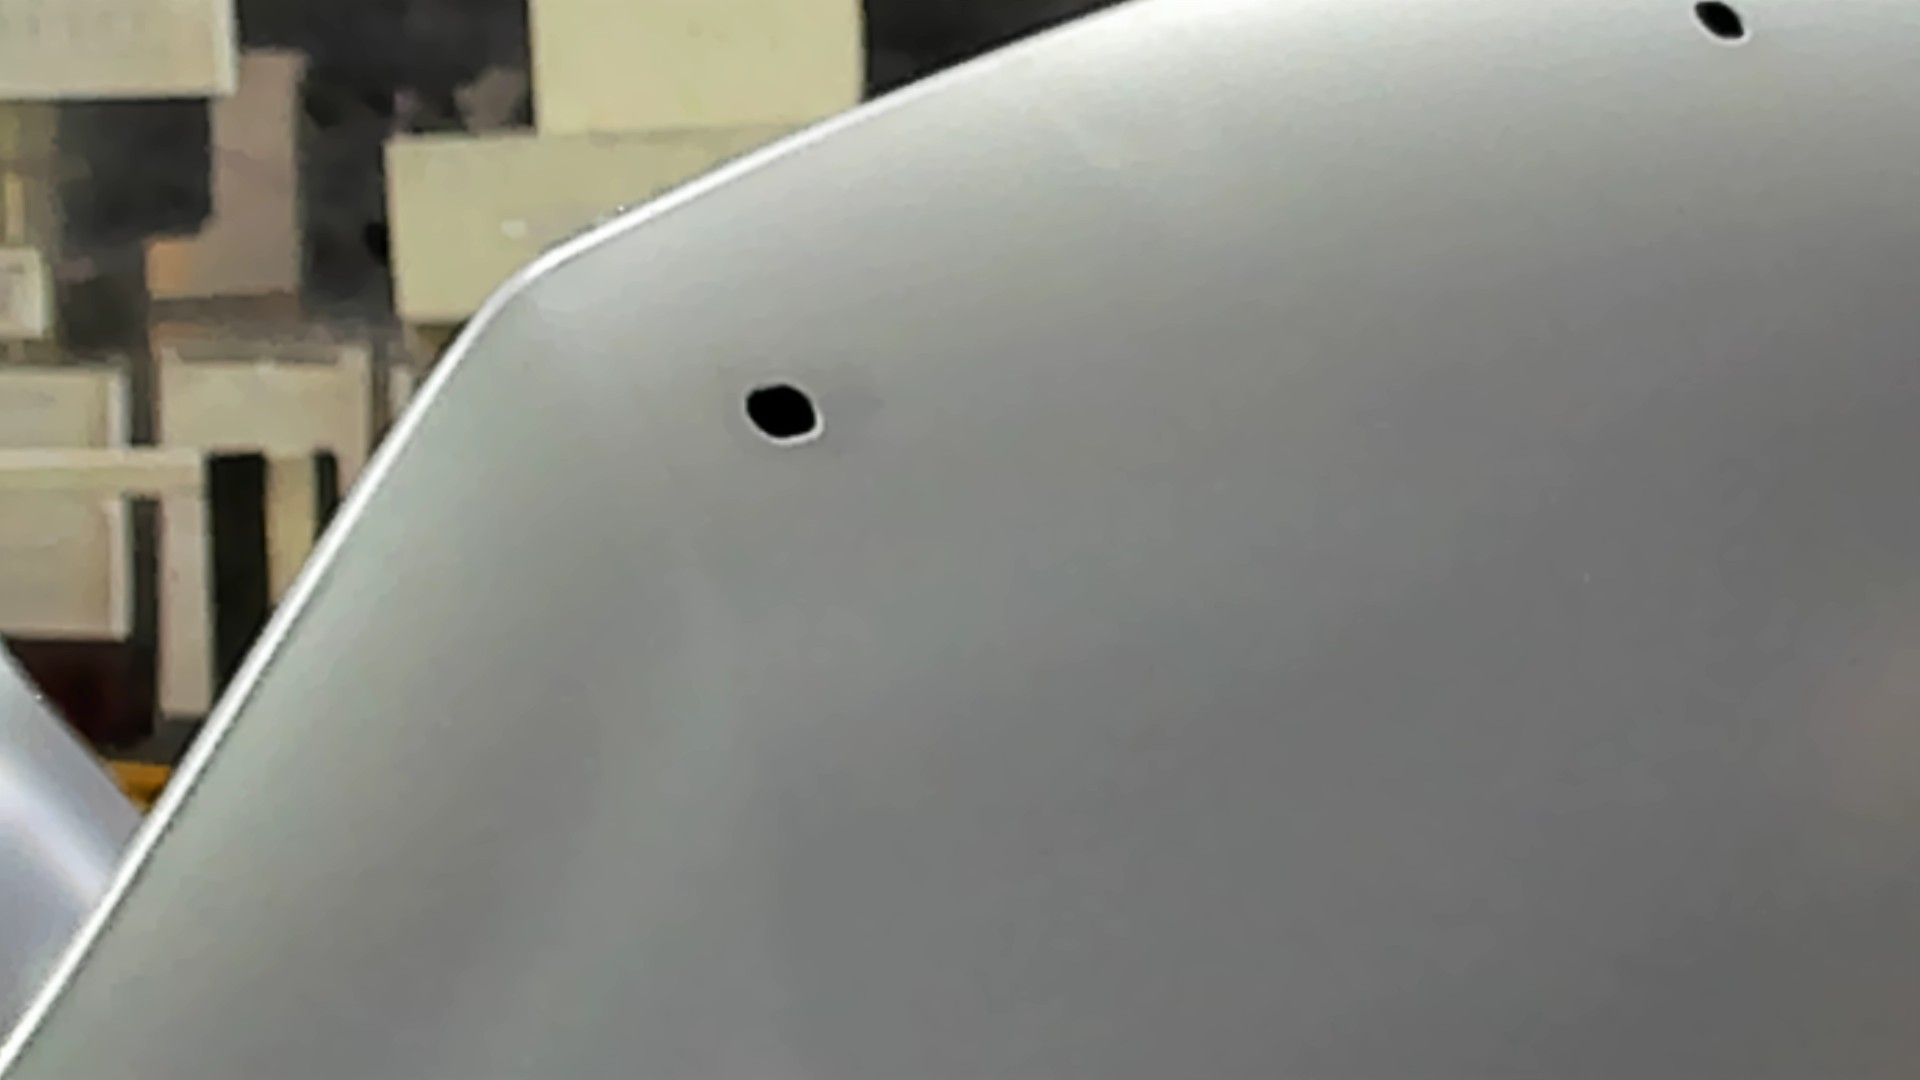amorfo: (733, 378, 827, 450), (1688, 1, 1756, 46)
capo: (949, 88, 1920, 1080)
